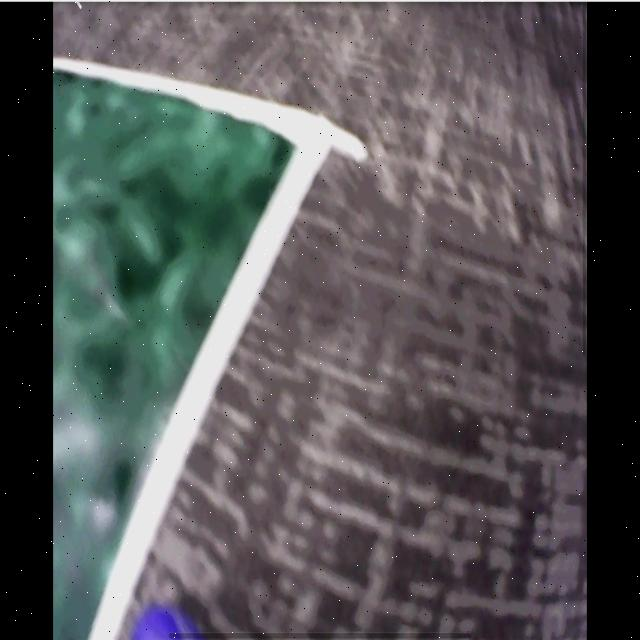ball: (133, 605, 197, 640)
